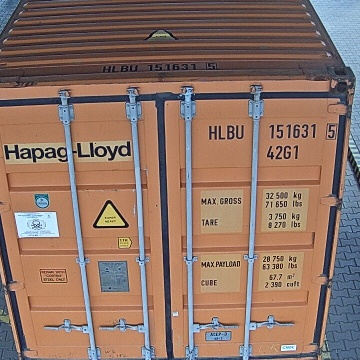serial_id: (209, 123, 337, 139)
